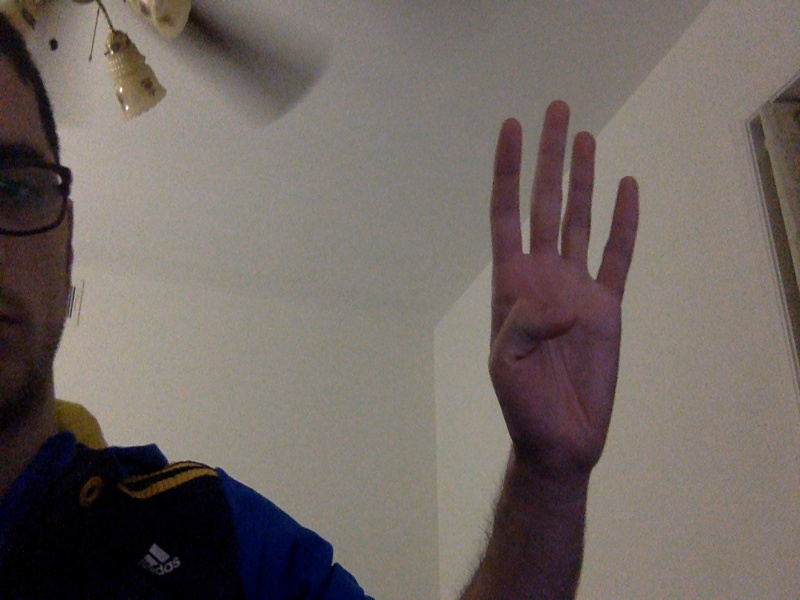4-hand: (492, 98, 644, 475)
